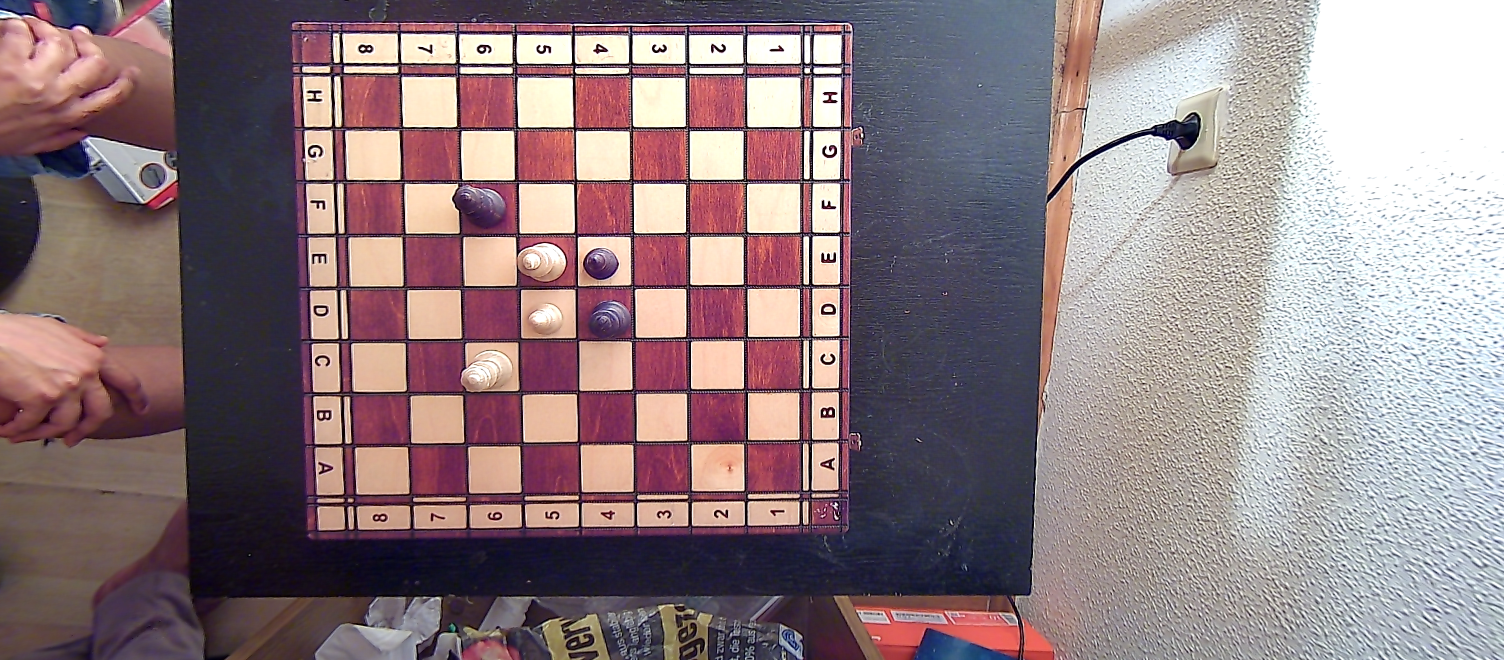black-bishop: (579, 246, 623, 278)
black-king: (588, 296, 633, 341)
black-queen: (451, 182, 508, 230)
white-bishop: (525, 299, 565, 336)
white-king: (516, 241, 568, 285)
white-queen: (460, 347, 514, 395)
